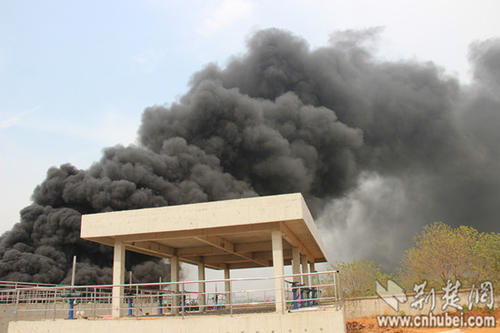smoke: (177, 50, 488, 165)
